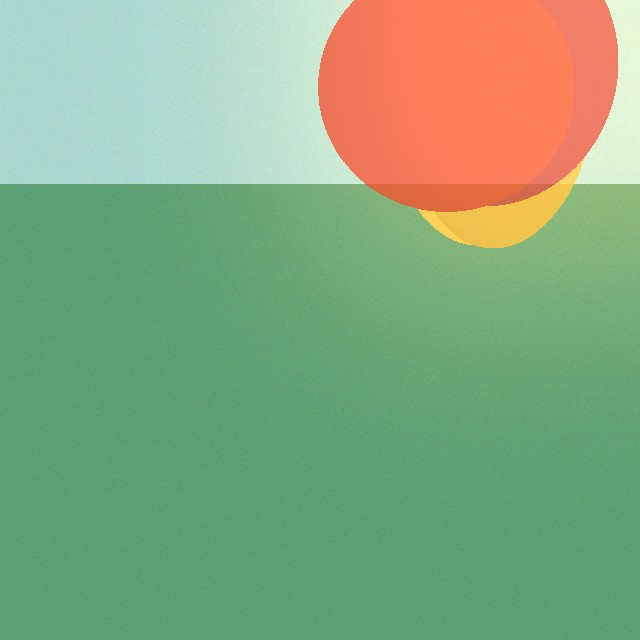fire: (355, 36, 621, 202)
